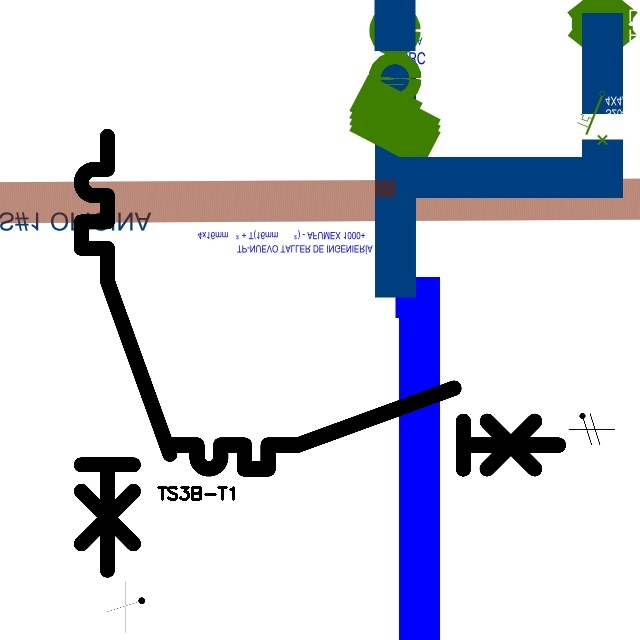interruptor_termomagnetico: (70, 125, 181, 581), (157, 378, 568, 479)
